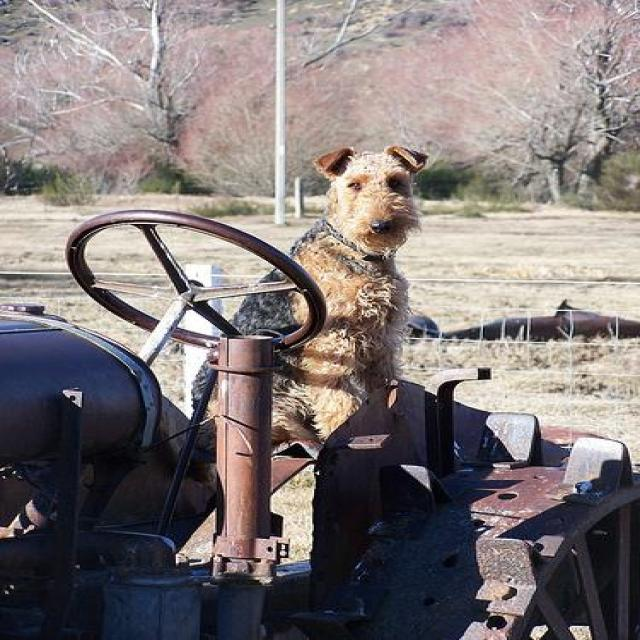airedale: (188, 142, 428, 454)
